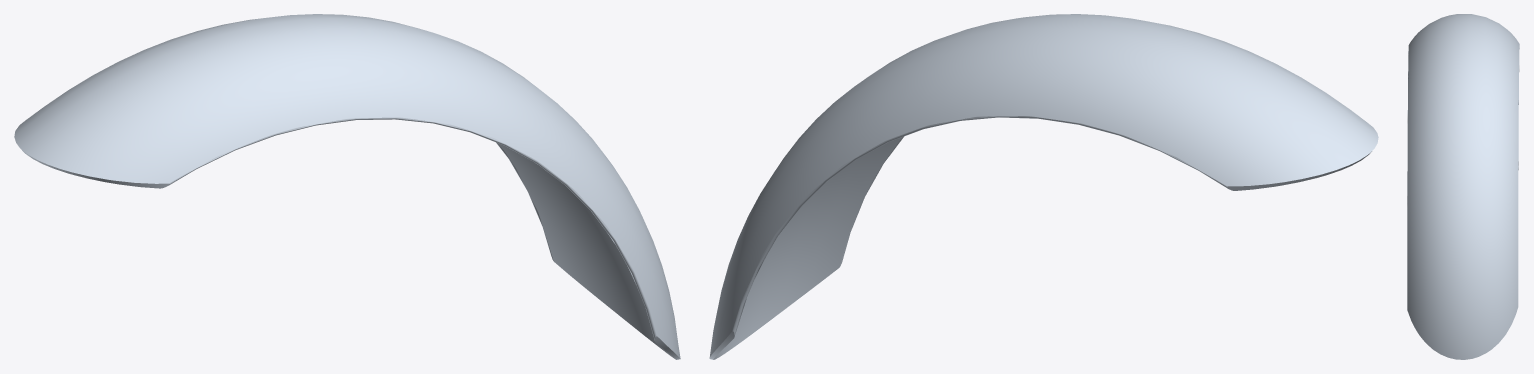
The model's file is RB-027_viewer.glb.
The picture shows the model from 3 angles, left to right: view 1: azimuth 30°, elevation 25°; view 2: azimuth 150°, elevation 25°; view 3: azimuth 270°, elevation 25°; orthographic projection. The views are drawn at different scales.
Parts seen in each view (by area): view 1: basebody_imported1; view 2: basebody_imported1; view 3: basebody_imported1.
Part boxes in pixels (box(x1,y1,x2,y2)): basebody_imported1: box(14, 14, 680, 359); basebody_imported1: box(709, 14, 1378, 359); basebody_imported1: box(1407, 14, 1519, 359).
Size of the model in its own units: 0.0351 by 0.0218 by 0.0103.
